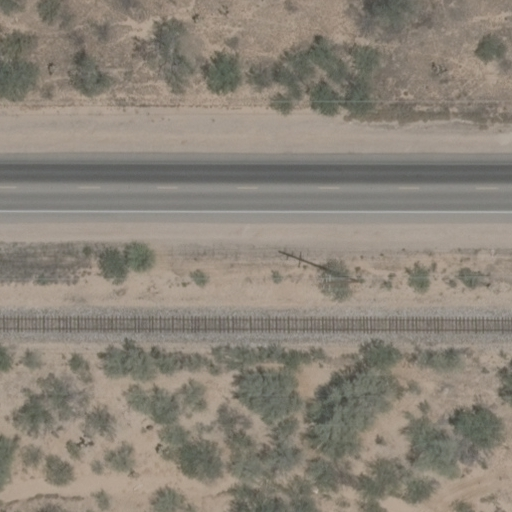DT: (319, 260, 357, 285)
